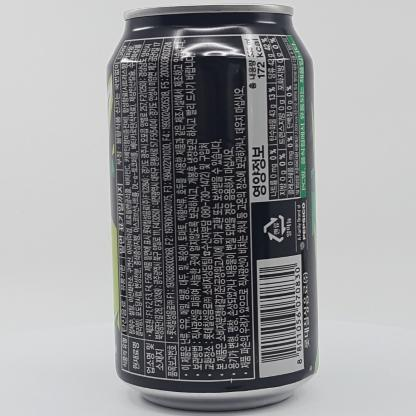------355ML: (106, 4, 319, 412)
